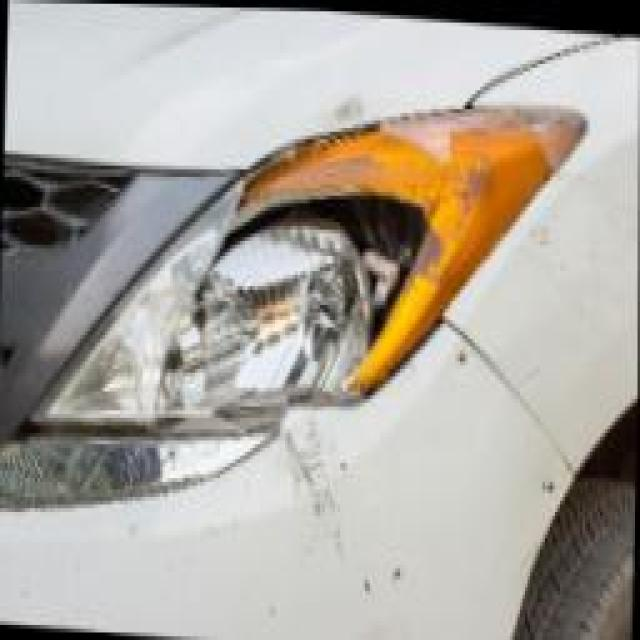Bumper: (255, 407, 476, 623)
Light: (155, 117, 411, 413)
